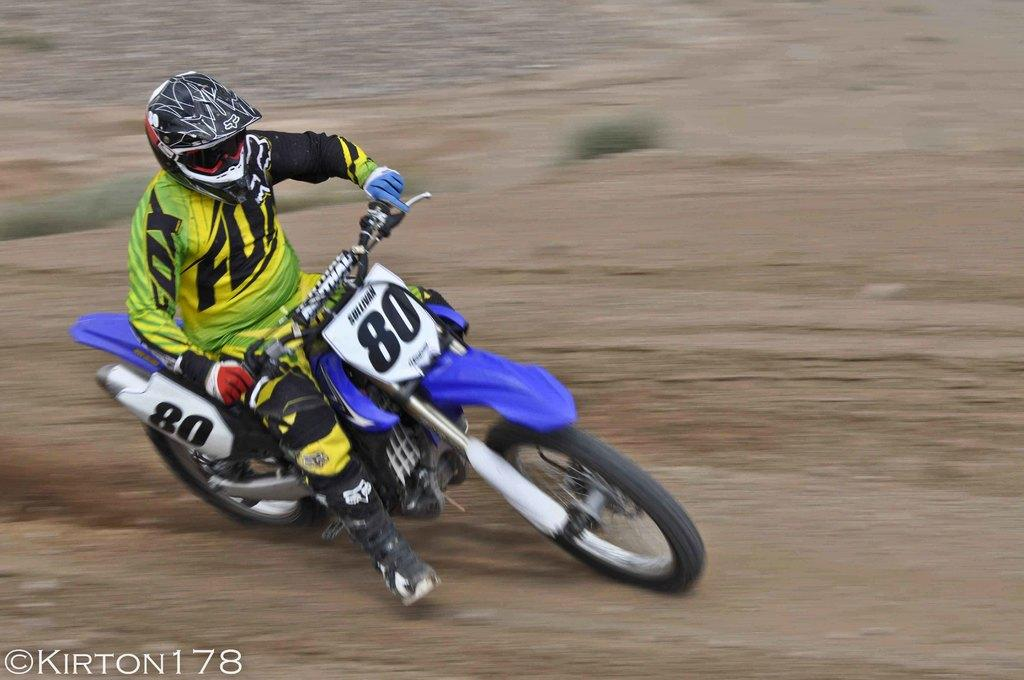helmet: (144, 70, 263, 206)
